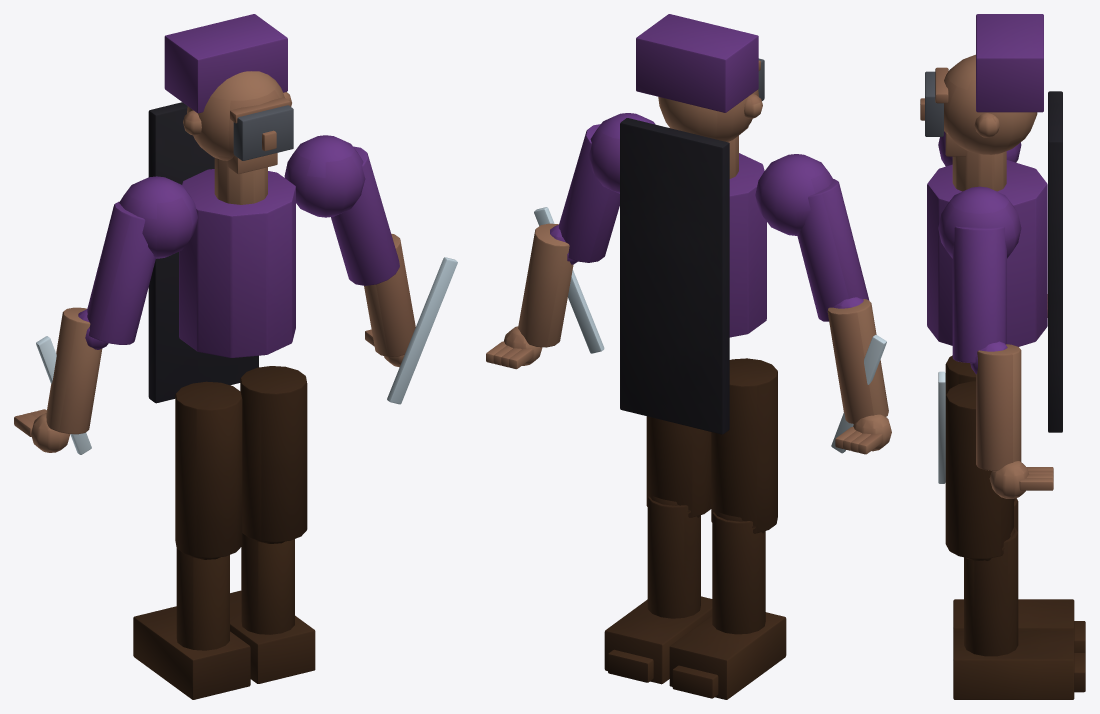
The model's file is unit_veiled_assassin.fbx.
The picture shows the model from 3 angles, left to right: view 1: azimuth 30°, elevation 25°; view 2: azimuth 150°, elevation 25°; view 3: azimuth 270°, elevation 25°; orthographic projection.
Visible parts, largest first — view 1: unit_veiled_assassin; view 2: unit_veiled_assassin; view 3: unit_veiled_assassin.
Part boxes in pixels (x1,y1,x2,y2): unit_veiled_assassin: [14, 14, 457, 699]; unit_veiled_assassin: [486, 14, 891, 699]; unit_veiled_assassin: [920, 14, 1085, 699].
Size of the model in its own units: 1.2 by 1.85 by 0.4375.
